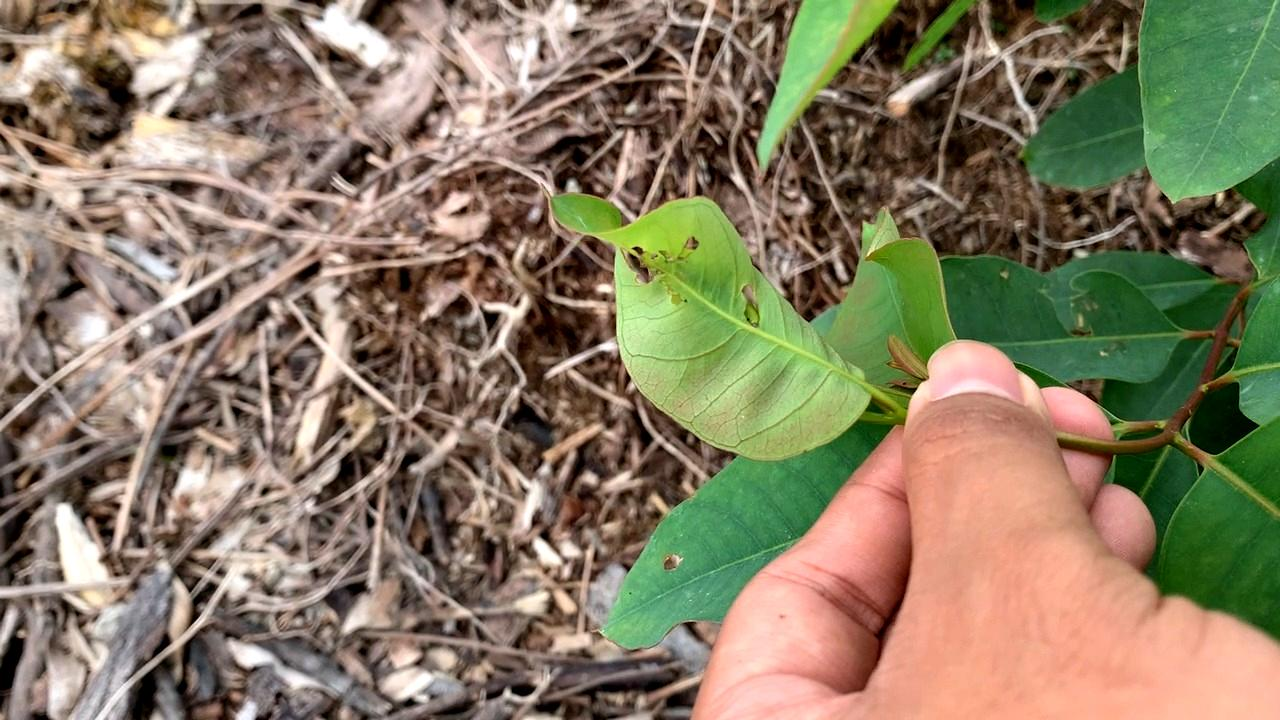Leaf Roller - Leaf: (542, 183, 872, 455)
